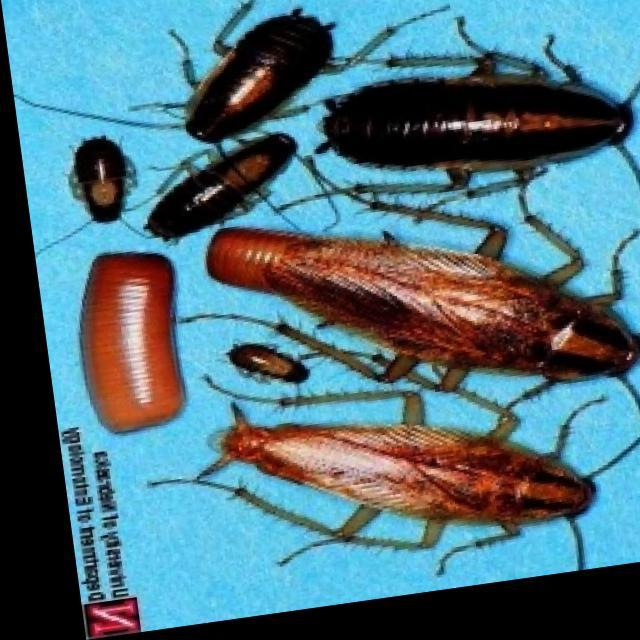cockroach: (206, 208, 640, 408), (203, 409, 620, 569), (312, 48, 633, 188), (180, 5, 348, 146), (155, 117, 300, 253), (65, 125, 136, 228), (227, 339, 311, 399)
